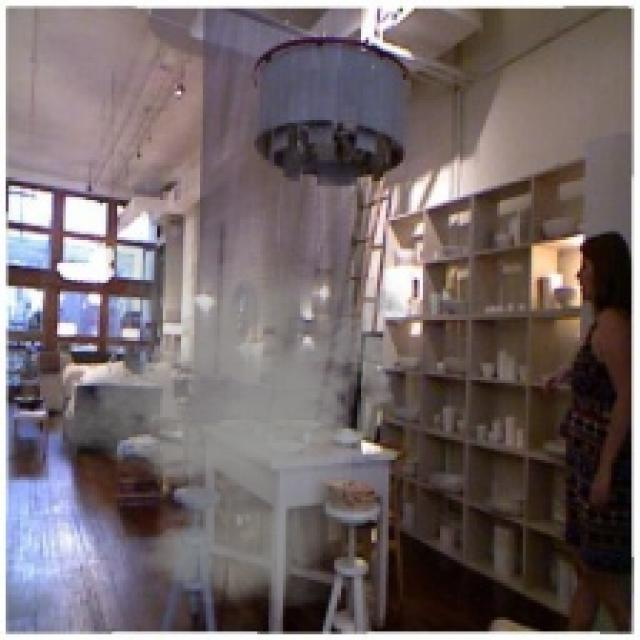smoke: (37, 237, 420, 609)
